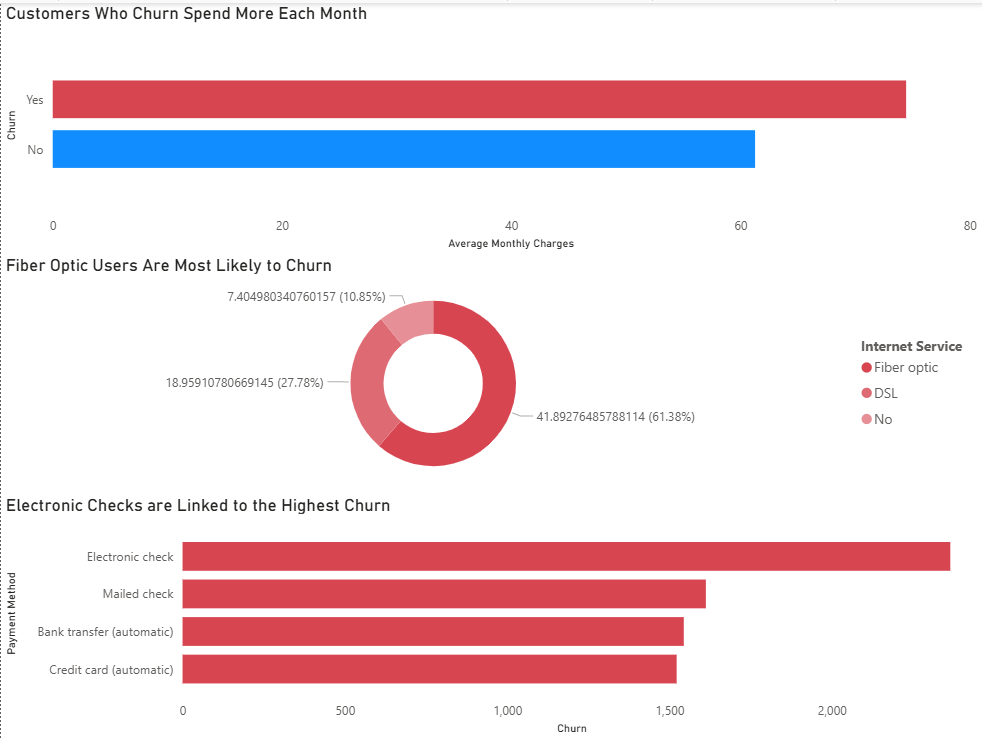

The dashboard page shown, as its layout file describes it:
{"tool":"powerbi","page":{"name":"Churn Drivers","canvas":[960,720],"ordinal":1},"visuals":[{"type":"barChart","title":"Customers Who Churn Spend More Each Month","fields":{"Category":["telco_churn_clean.Churn"],"Y":["telco_churn_clean.Avg Monthly Charges"]},"box":[0,0,960,246.2],"z":0},{"type":"donutChart","title":"Fiber Optic Users Are Most Likely to Churn","fields":{"Category":["telco_churn_clean.InternetService"],"Y":["telco_churn_clean.Churn Rate %"]},"box":[0,246.2,960,233.8],"z":1},{"type":"clusteredBarChart","title":"Electronic Checks are Linked to the Highest Churn","fields":{"Category":["telco_churn_clean.PaymentMethod"],"Y":["CountNonNull(telco_churn_clean.Churn)"]},"box":[0,480,960,240],"z":2}]}

Visuals, with their boxes in screenshot pixels (x1, y1, x2, y2), scaled from the page's 960x720 canvas onto the 982x739 screenshot:
"Customers Who Churn Spend More Each Month" barChart: [x1=0, y1=0, x2=981, y2=253]
"Fiber Optic Users Are Most Likely to Churn" donutChart: [x1=0, y1=253, x2=981, y2=493]
"Electronic Checks are Linked to the Highest Churn" clusteredBarChart: [x1=0, y1=493, x2=981, y2=738]
